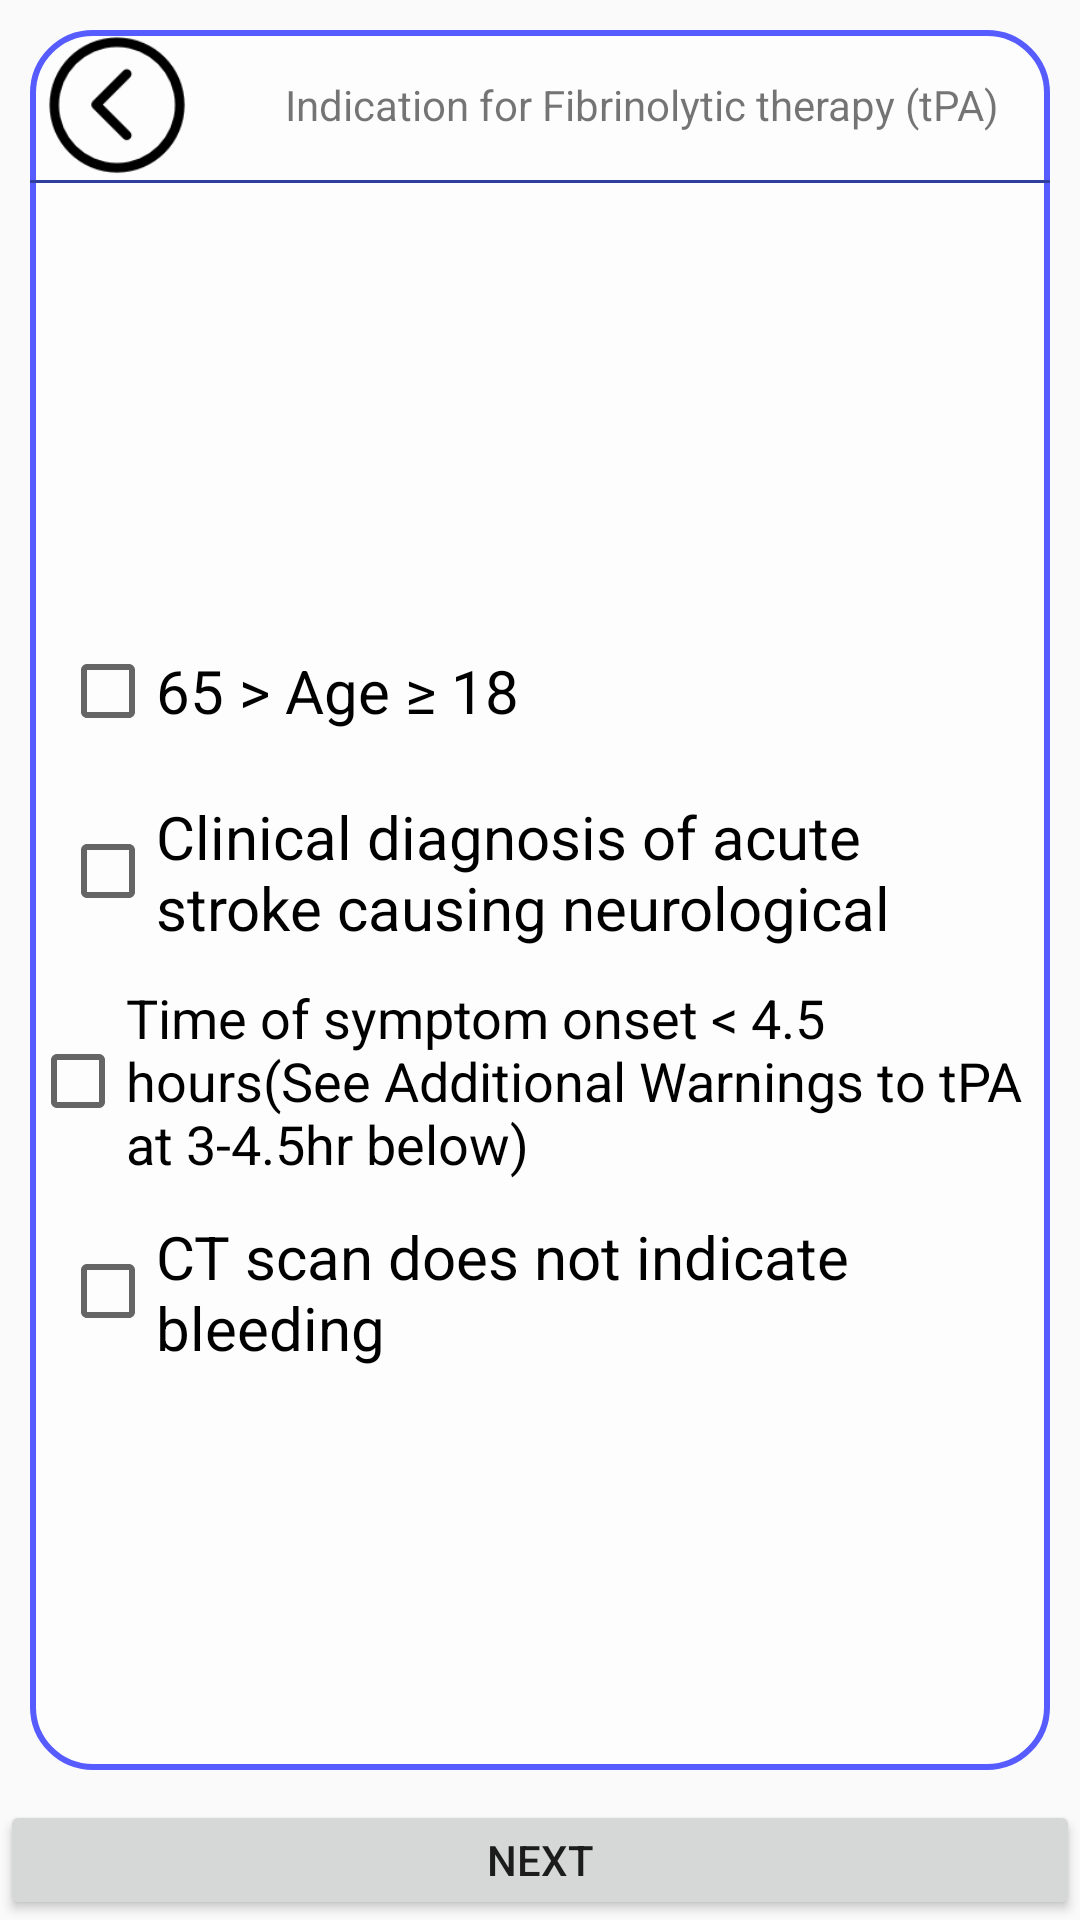

Locate icon controls on the screen. Image size 1080*1920, boxes as (x1, y1, x2, y2).
prev: (49, 37, 185, 173)
